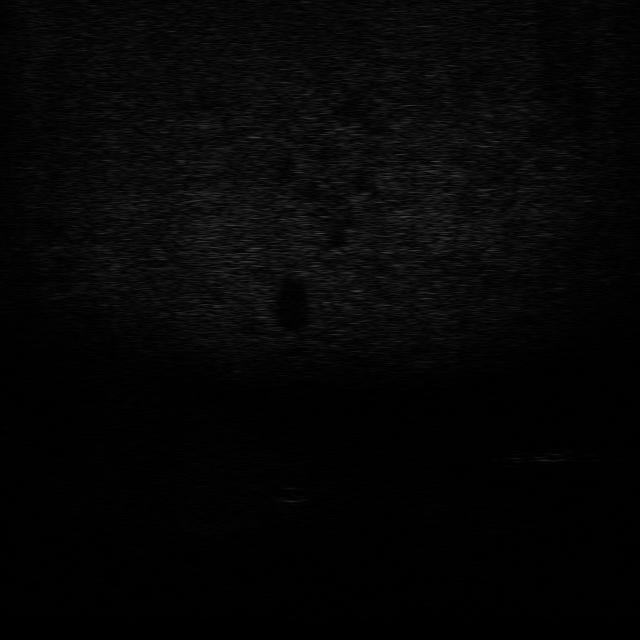ball: (272, 481, 312, 506)
human body: (503, 440, 598, 466)
